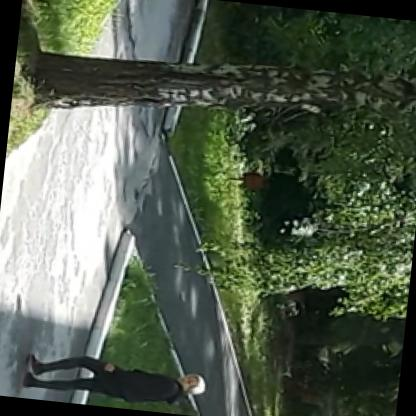Human Body: (18, 344, 210, 415)
